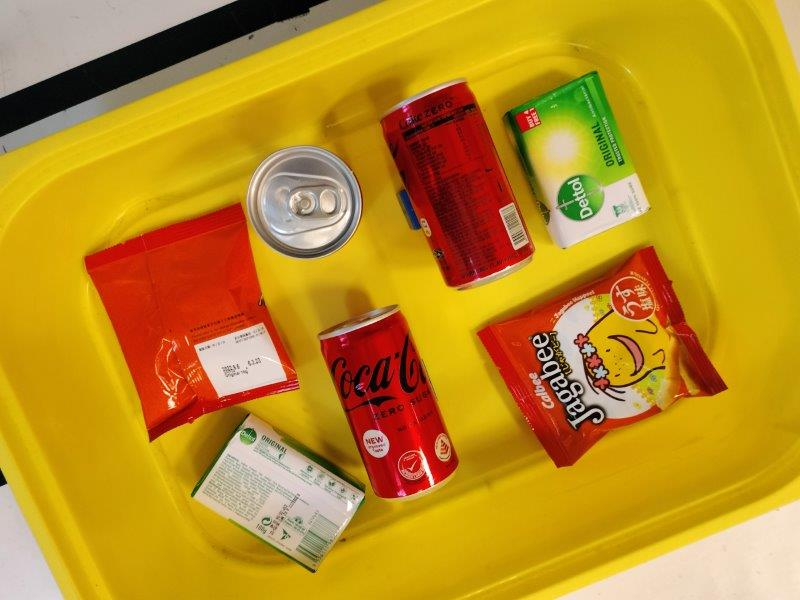Coke: (379, 77, 538, 291), (317, 305, 459, 503), (246, 147, 363, 259)
Dettol: (190, 410, 367, 571), (503, 72, 653, 247)
Jagabee: (475, 246, 730, 468), (85, 202, 299, 445)
